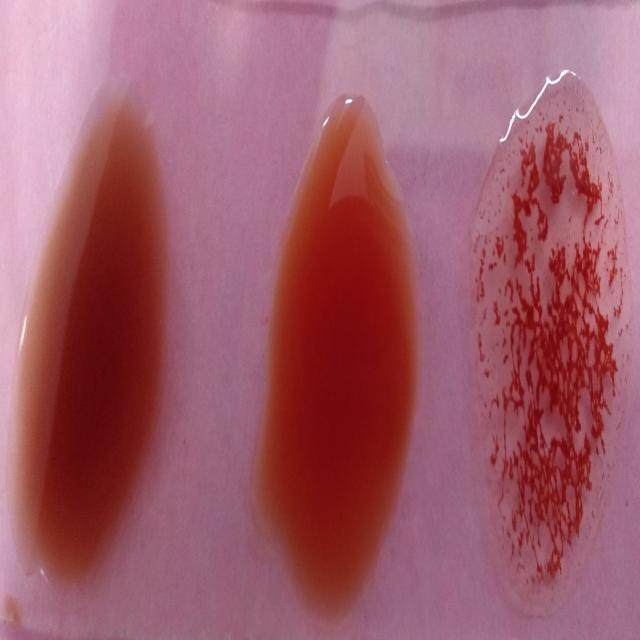D: (472, 69, 626, 588)
